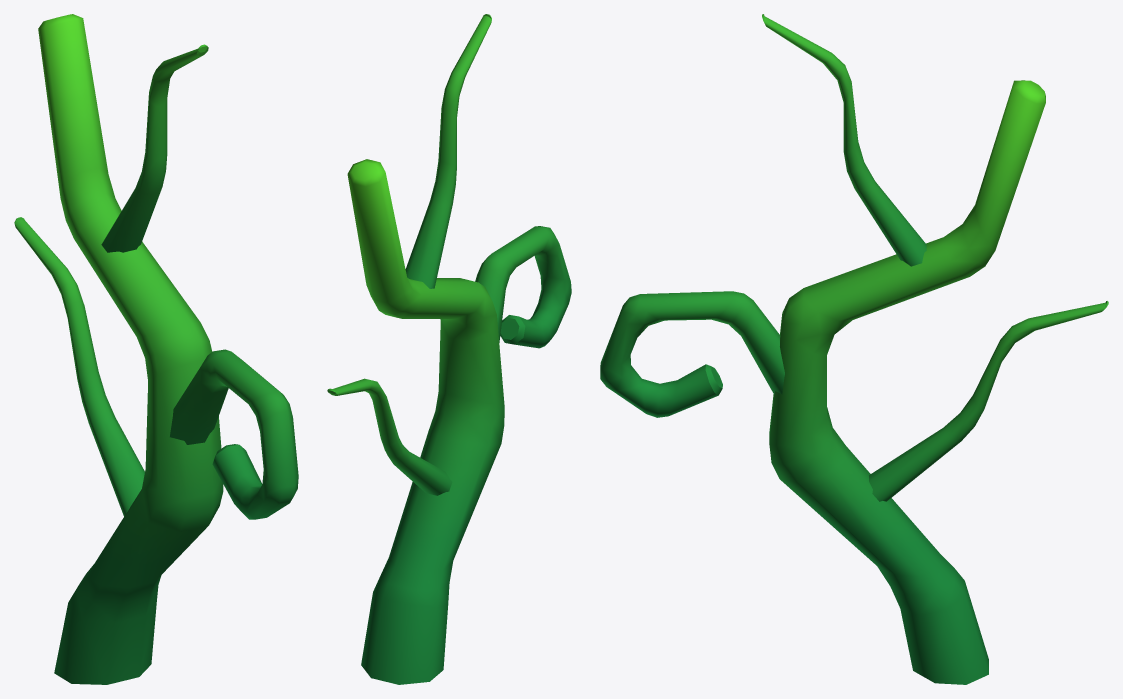
Rendered from Vine_4_1.obj.
The picture shows the model from 3 angles, left to right: view 1: azimuth 30°, elevation 25°; view 2: azimuth 150°, elevation 25°; view 3: azimuth 270°, elevation 25°; orthographic projection. The views are drawn at different scales.
Parts seen in each view (by area): view 1: Vine_4_1; view 2: Vine_4_1; view 3: Vine_4_1.
Boxes of the visible parts, bbox=[...] form: Vine_4_1: bbox=[14, 14, 298, 684]; Vine_4_1: bbox=[327, 14, 571, 684]; Vine_4_1: bbox=[600, 14, 1108, 684].
Size of the model in its own units: 0.1173 by 0.9666 by 0.6831.
